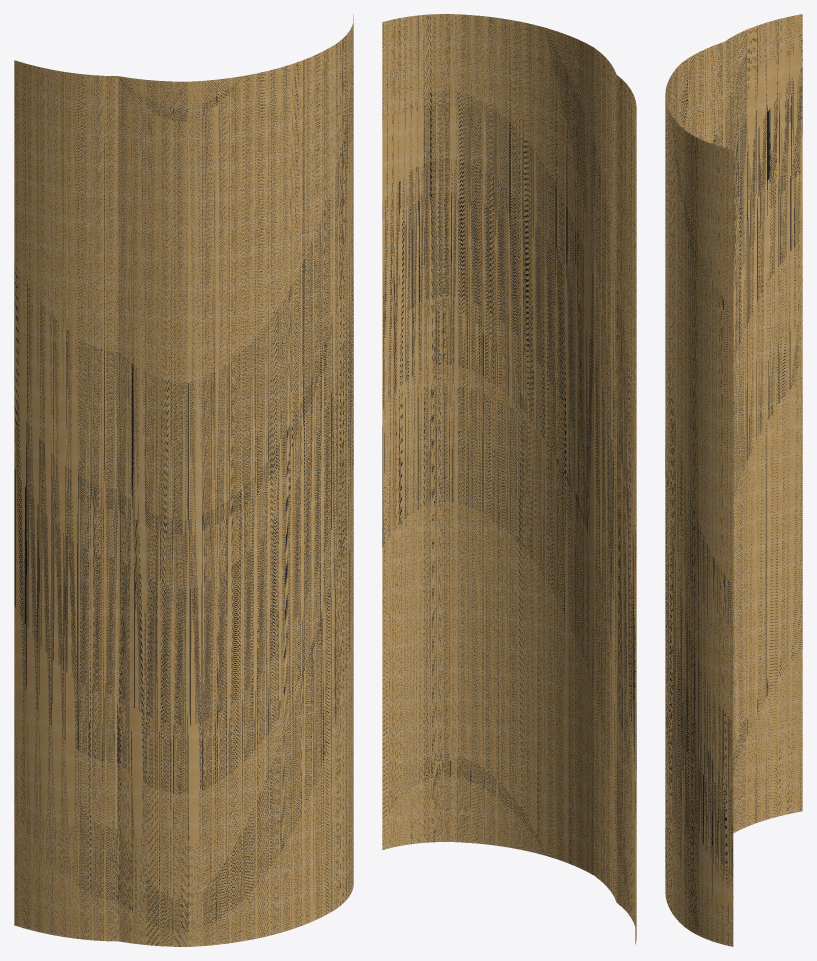
File: original-66.obj
3 views of the same model, side by side, from view 1: azimuth 30°, elevation 25°; view 2: azimuth 150°, elevation 25°; view 3: azimuth 270°, elevation 25° (orthographic). The views are drawn at different scales.
Visible parts, largest first — view 1: mesh3/mesh3-geometry/material_3#mesh3-geometry; view 2: mesh3/mesh3-geometry/material_3#mesh3-geometry; view 3: mesh3/mesh3-geometry/material_3#mesh3-geometry.
Boxes of the visible parts, box(x1,y1,x2,y2) form: mesh3/mesh3-geometry/material_3#mesh3-geometry: box(14, 14, 353, 946); mesh3/mesh3-geometry/material_3#mesh3-geometry: box(382, 14, 636, 944); mesh3/mesh3-geometry/material_3#mesh3-geometry: box(665, 14, 802, 946).
Bounding box in the file's own units: 0.2236 × 0.6127 × 0.0957.
